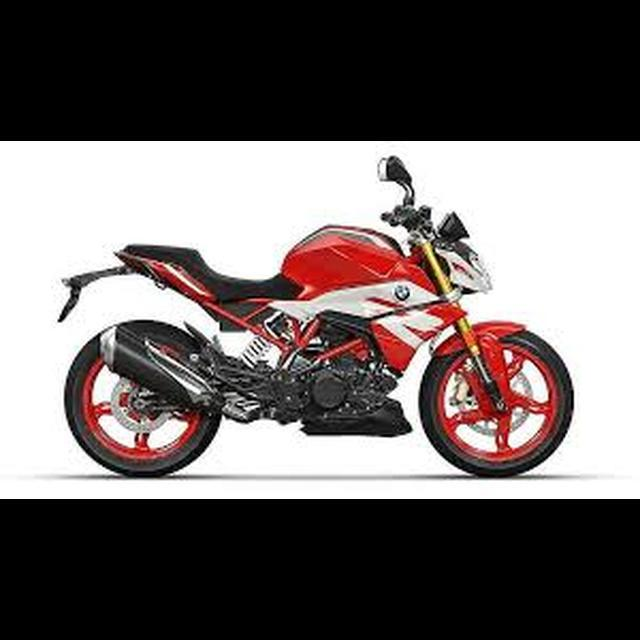motorcycle: (53, 153, 579, 483)
